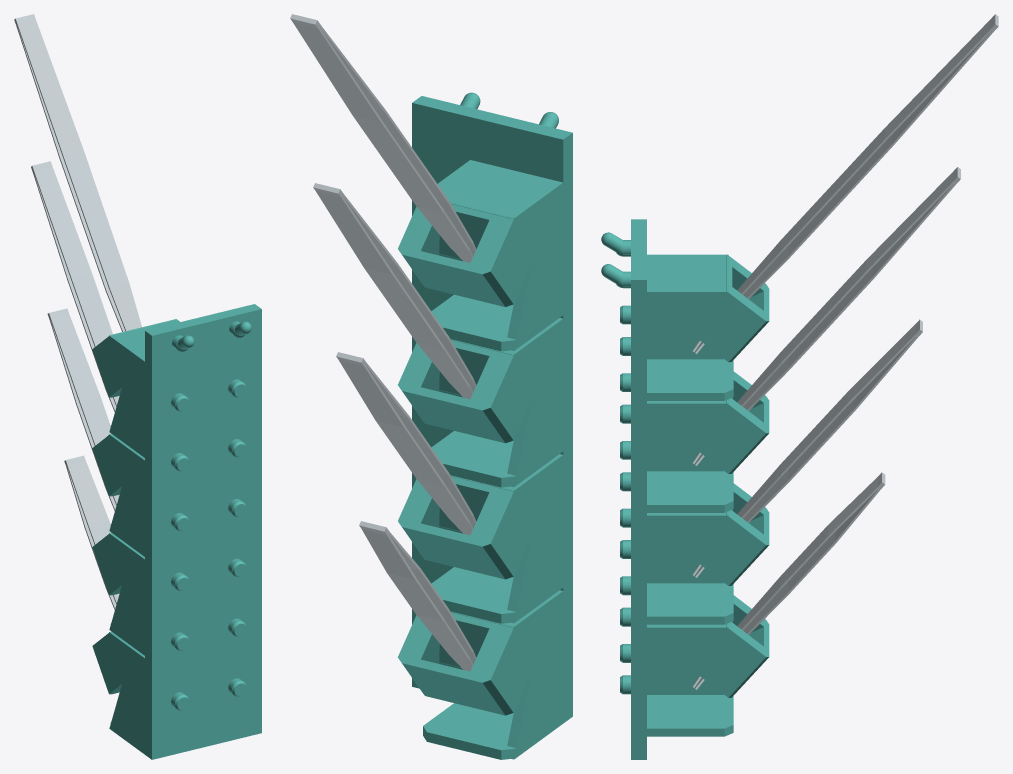
File: part-solder-modules-tweezers__v7__loaded.glb
3 renders of one model, left to right at view 1: azimuth 30°, elevation 25°; view 2: azimuth 150°, elevation 25°; view 3: azimuth 270°, elevation 25°, orthographic. The views are drawn at different scales.
Visible parts, largest first — view 1: Actual holder mesh, Tweezer envelope, Tweezer envelope.001, Tweezer envelope.002, Tweezer envelope.003; view 2: Actual holder mesh, Tweezer envelope, Tweezer envelope.001, Tweezer envelope.002, Tweezer envelope.003; view 3: Actual holder mesh, Tweezer envelope, Tweezer envelope.001, Tweezer envelope.002, Tweezer envelope.003.
Boxes of the visible parts, box(x1,y1,x2,y2) form: Actual holder mesh: box(92, 304, 261, 759); Tweezer envelope: box(14, 14, 141, 331); Tweezer envelope.001: box(31, 161, 119, 412); Tweezer envelope.002: box(47, 308, 119, 511); Tweezer envelope.003: box(64, 455, 119, 609); Actual holder mesh: box(397, 92, 572, 759); Tweezer envelope: box(290, 14, 476, 262); Tweezer envelope.001: box(313, 183, 476, 398); Tweezer envelope.002: box(336, 352, 476, 535); Tweezer envelope.003: box(359, 521, 476, 671); Actual holder mesh: box(601, 219, 769, 759); Tweezer envelope: box(692, 14, 998, 353); Tweezer envelope.001: box(692, 167, 960, 465); Tweezer envelope.002: box(692, 319, 922, 577); Tweezer envelope.003: box(692, 472, 885, 689).
Size of the model in its own units: 0.0488 by 0.2623 by 0.1352.
